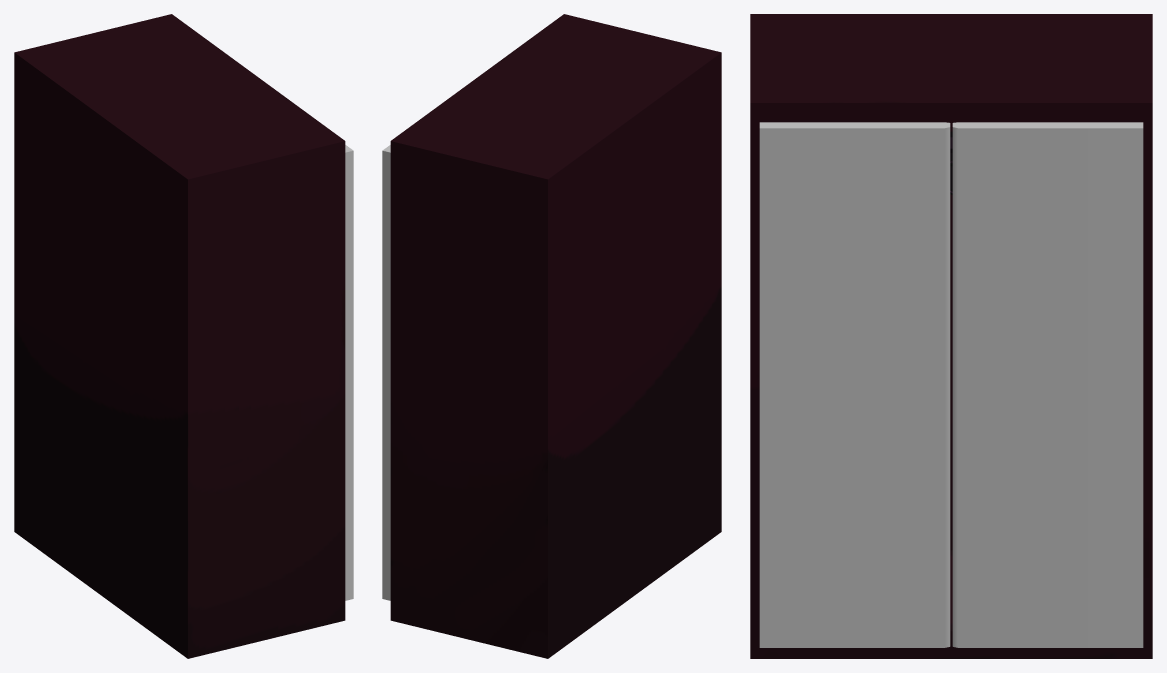
The model's file is wardrobe.fbx.
3 renders of one model, left to right at view 1: azimuth 30°, elevation 25°; view 2: azimuth 150°, elevation 25°; view 3: azimuth 270°, elevation 25°, orthographic. The views are drawn at different scales.
Visible parts, largest first — view 1: pCylinder4, polySurface32; view 2: pCylinder4, polySurface30; view 3: polySurface30, polySurface32, pCylinder4.
Boxes of the visible parts, x1,y1,x2,y2 form: pCylinder4: (14, 14, 345, 658); polySurface32: (345, 145, 353, 600); pCylinder4: (390, 14, 721, 658); polySurface30: (382, 145, 390, 600); polySurface30: (952, 122, 1143, 647); polySurface32: (759, 122, 950, 647); pCylinder4: (750, 14, 1152, 658).
Size of the model in its own units: 59.31 by 160 by 105.
